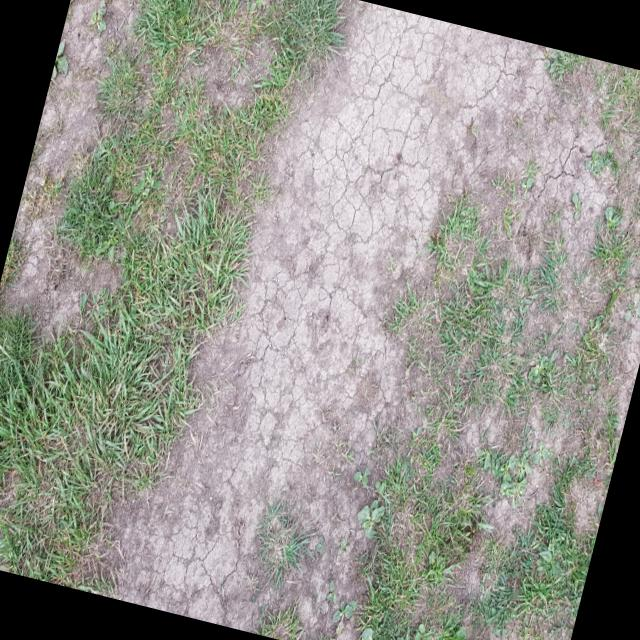grass: (0, 0, 344, 597), (356, 157, 632, 640), (597, 66, 640, 149)
white-sand: (119, 3, 551, 637), (14, 0, 138, 264)
